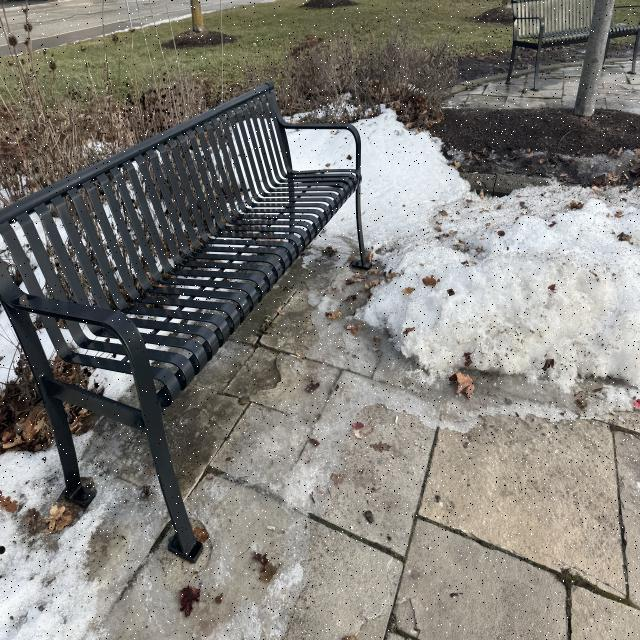Bench: (0, 59, 347, 510), (492, 0, 632, 92)
